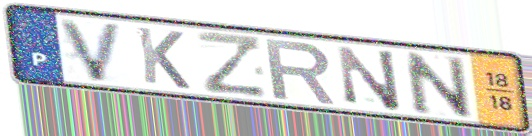K: (133, 24, 193, 92)
N: (400, 49, 477, 120), (334, 43, 405, 114)
R: (261, 36, 339, 107)
V: (56, 16, 127, 84)
Z: (194, 28, 270, 99)
